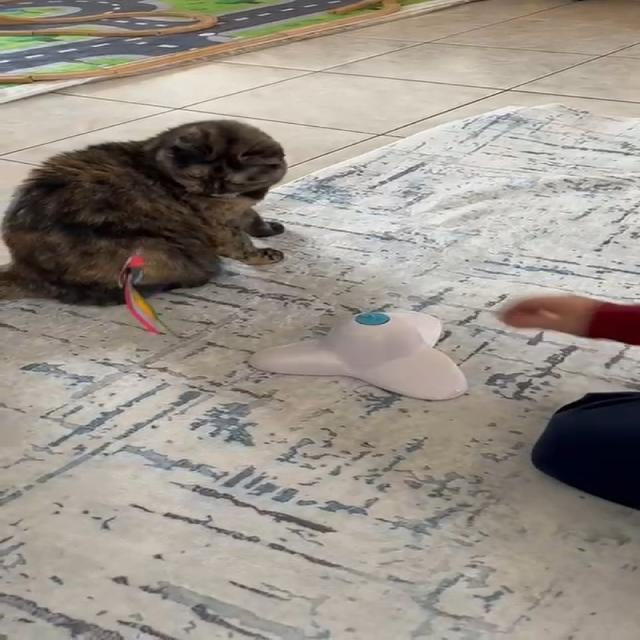authorized: (0, 119, 288, 307)
